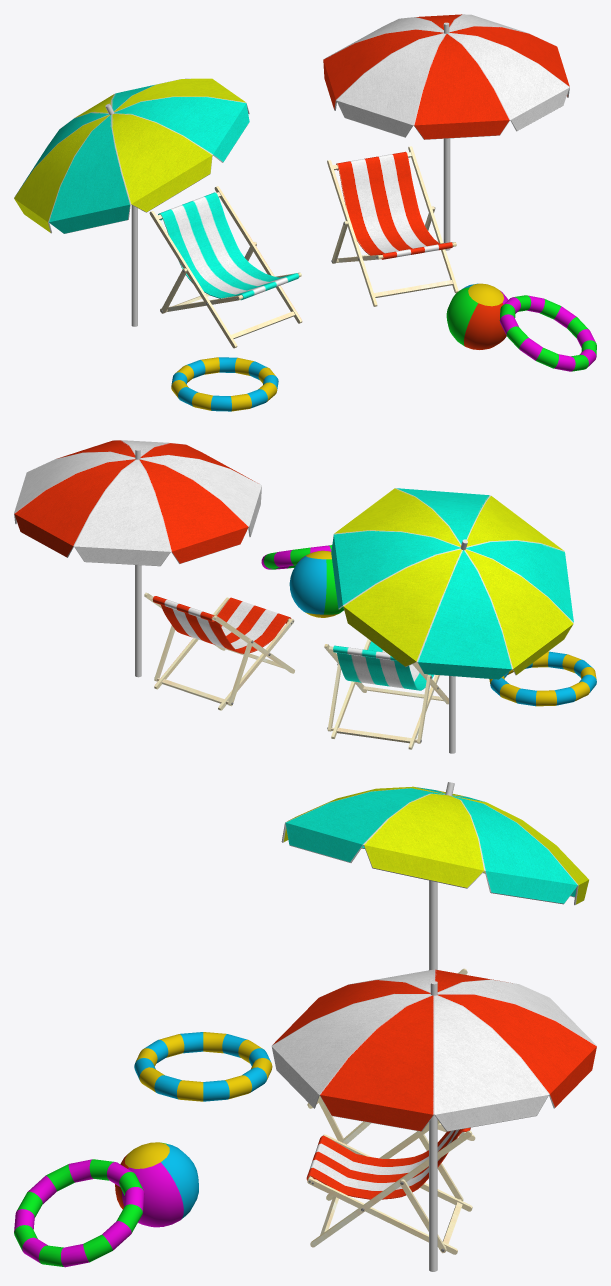
The model's file is Beach Scene.fbx.
3 renders of one model, top to bottom at view 1: azimuth 30°, elevation 25°; view 2: azimuth 150°, elevation 25°; view 3: azimuth 270°, elevation 25°, orthographic. The views are drawn at different scales.
Parts seen in each view (by area): view 1: UmbrellaTop2 (×2), Fold2 (×2), Floatie, Floatie1, BeachBall, Chair2, Chair1, Umbrella_Poll1, Umbrella_Poll2; view 2: UmbrellaTop2 (×2), Fold2 (×2), Chair1, Floatie1, BeachBall, Chair2, Floatie, Umbrella_Poll1, Umbrella_Poll2; view 3: UmbrellaTop2 (×2), Floatie, Floatie1, Fold2, BeachBall, Chair1, Umbrella_Poll1, Umbrella_Poll2, Chair2.
Part boxes in pixels (left/top/right/bottom): UmbrellaTop2 (×2): left=14, top=14, right=569, bottom=233; Fold2 (×2): left=158, top=151, right=452, bottom=300; Floatie: left=499, top=295, right=596, bottom=371; Floatie1: left=171, top=357, right=278, bottom=411; BeachBall: left=446, top=283, right=508, bottom=349; Chair2: left=149, top=186, right=302, bottom=348; Chair1: left=327, top=146, right=458, bottom=306; Umbrella_Poll1: left=443, top=138, right=450, bottom=250; Umbrella_Poll2: left=131, top=205, right=137, bottom=326; UmbrellaTop2 (×2): left=14, top=440, right=573, bottom=679; Fold2 (×2): left=152, top=596, right=433, bottom=690; Chair1: left=144, top=592, right=294, bottom=710; Floatie1: left=489, top=651, right=596, bottom=706; BeachBall: left=289, top=550, right=343, bottom=617; Chair2: left=324, top=639, right=448, bottom=749; Floatie: left=261, top=545, right=332, bottom=569; Umbrella_Poll1: left=135, top=565, right=141, bottom=677; Umbrella_Poll2: left=449, top=676, right=455, bottom=753; UmbrellaTop2 (×2): left=271, top=786, right=596, bottom=1131; Floatie: left=14, top=1159, right=144, bottom=1267; Floatie1: left=134, top=1032, right=272, bottom=1101; Fold2: left=306, top=1127, right=470, bottom=1199; BeachBall: left=115, top=1142, right=198, bottom=1227; Chair1: left=307, top=1120, right=472, bottom=1254; Umbrella_Poll1: left=429, top=1115, right=437, bottom=1271; Umbrella_Poll2: left=429, top=880, right=437, bottom=970; Chair2: left=307, top=968, right=475, bottom=1144.
Bounding box in the file's own units: 6.74 × 2.8 × 5.07.
7 materials, 1 textured.
